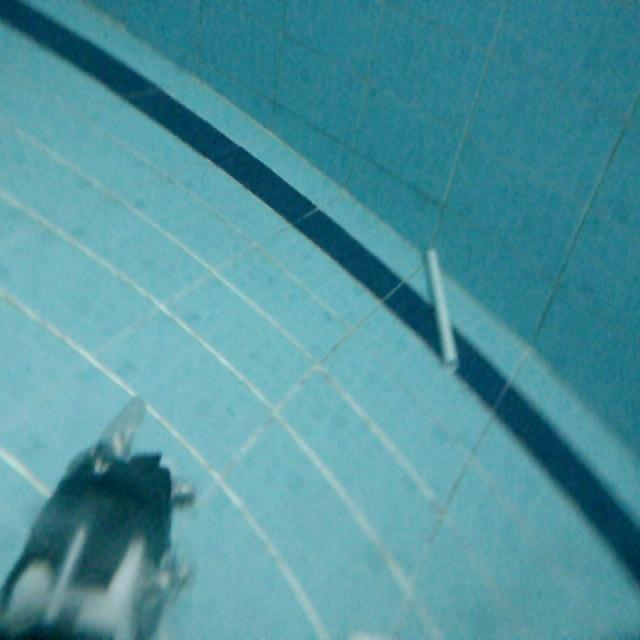Cube: (425, 246, 461, 374)
